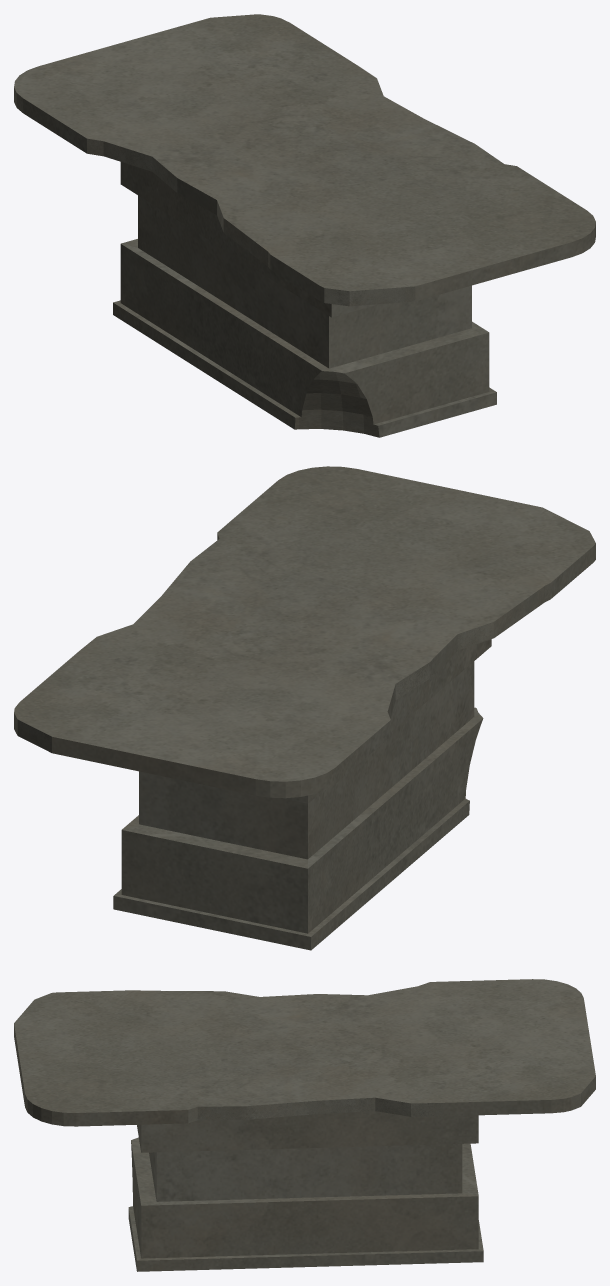
The model's file is table.gltf.
3 renders of one model, top to bottom at view 1: azimuth 30°, elevation 25°; view 2: azimuth 150°, elevation 25°; view 3: azimuth 270°, elevation 25°, orthographic. The views are drawn at different scales.
Parts seen in each view (by area): view 1: tisch.001; view 2: tisch.001; view 3: tisch.001.
Part boxes in pixels (bbox=[...]): tisch.001: bbox=[14, 14, 595, 437]; tisch.001: bbox=[14, 466, 595, 950]; tisch.001: bbox=[14, 979, 595, 1271].
Bounding box in the file's own units: 1.11 × 0.7057 × 2.03.
Materials: 1 (1 with a texture image).
